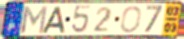2: (92, 6, 113, 33)
5: (70, 4, 92, 35)
7: (143, 4, 165, 34)
A: (40, 6, 66, 34)
M: (19, 5, 49, 35)
O: (119, 5, 143, 34)
